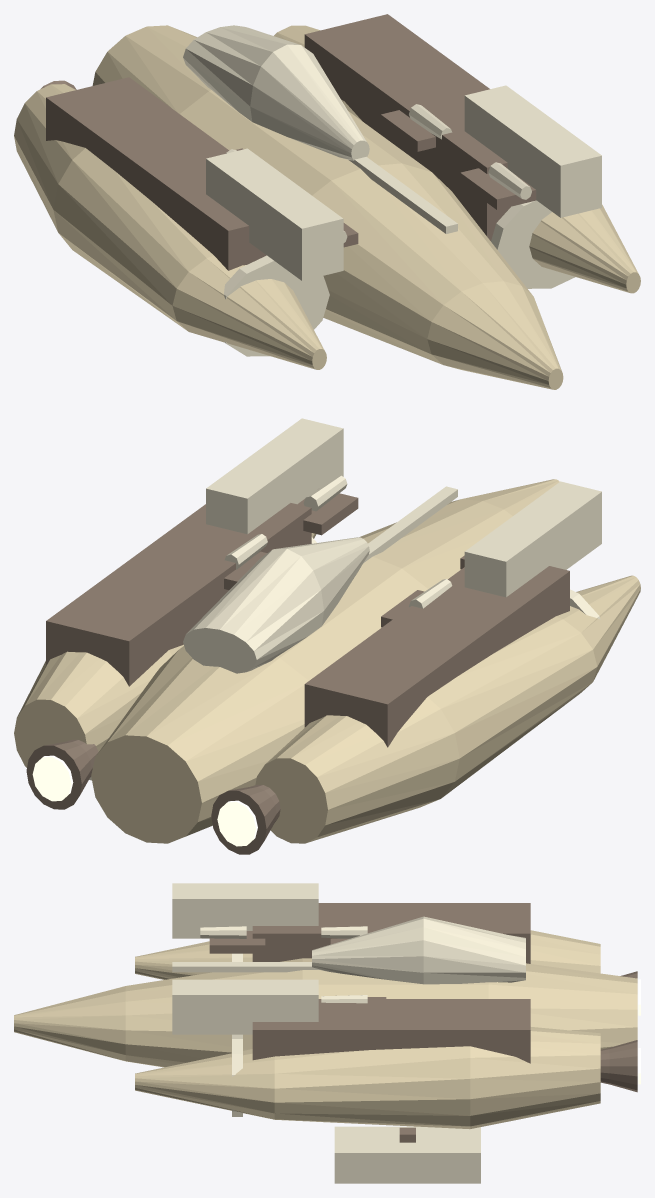
3 renders of one model, top to bottom at view 1: azimuth 30°, elevation 25°; view 2: azimuth 150°, elevation 25°; view 3: azimuth 270°, elevation 25°, orthographic. The views are drawn at different scales.
Bounding box in the file's own units: 10.29 × 5.58 × 17.15.
